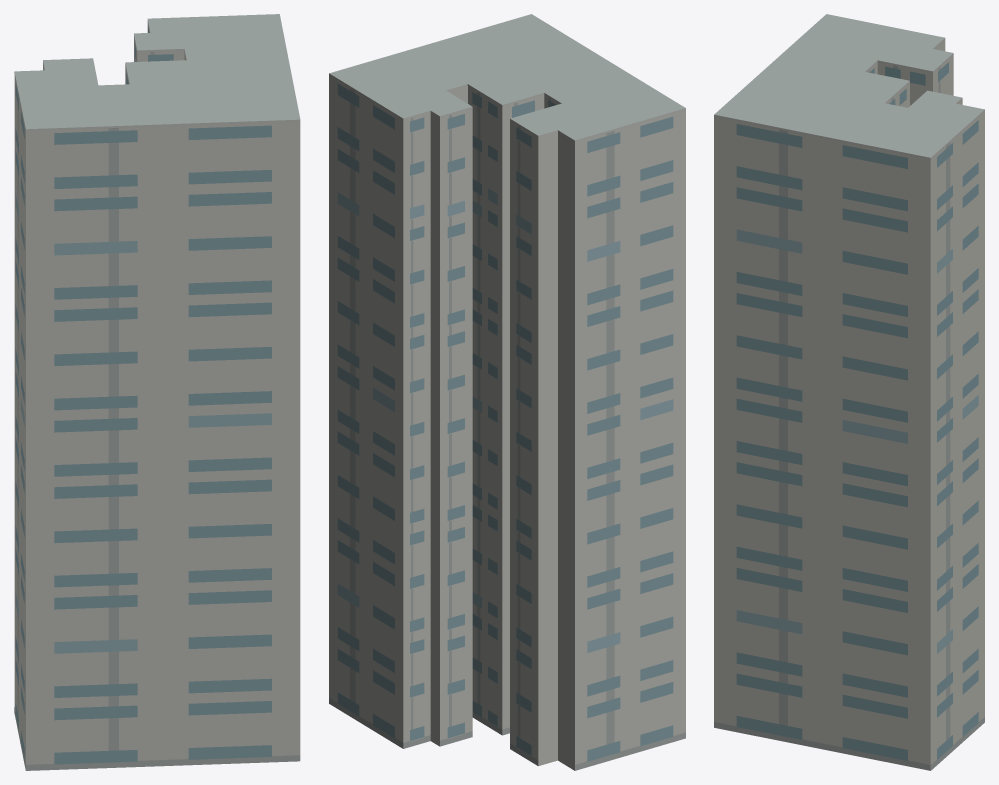
Rendered from residential-e5ab14e4-cf74-4d29-9d98-dea1b22b99af.glb.
The picture shows the model from 3 angles, left to right: view 1: azimuth 30°, elevation 25°; view 2: azimuth 150°, elevation 25°; view 3: azimuth 270°, elevation 25°; orthographic projection. The views are drawn at different scales.
Visible parts, largest first — view 1: residential-e5ab14e4-cf74-4d29-9d98-dea1b22b99af.tmp; view 2: residential-e5ab14e4-cf74-4d29-9d98-dea1b22b99af.tmp; view 3: residential-e5ab14e4-cf74-4d29-9d98-dea1b22b99af.tmp.
Part boxes in pixels (<box>): residential-e5ab14e4-cf74-4d29-9d98-dea1b22b99af.tmp: <box>14,14,300,770</box>; residential-e5ab14e4-cf74-4d29-9d98-dea1b22b99af.tmp: <box>329,14,685,770</box>; residential-e5ab14e4-cf74-4d29-9d98-dea1b22b99af.tmp: <box>714,14,984,770</box>.
Size of the model in its own units: 40.76 by 81 by 32.44.
